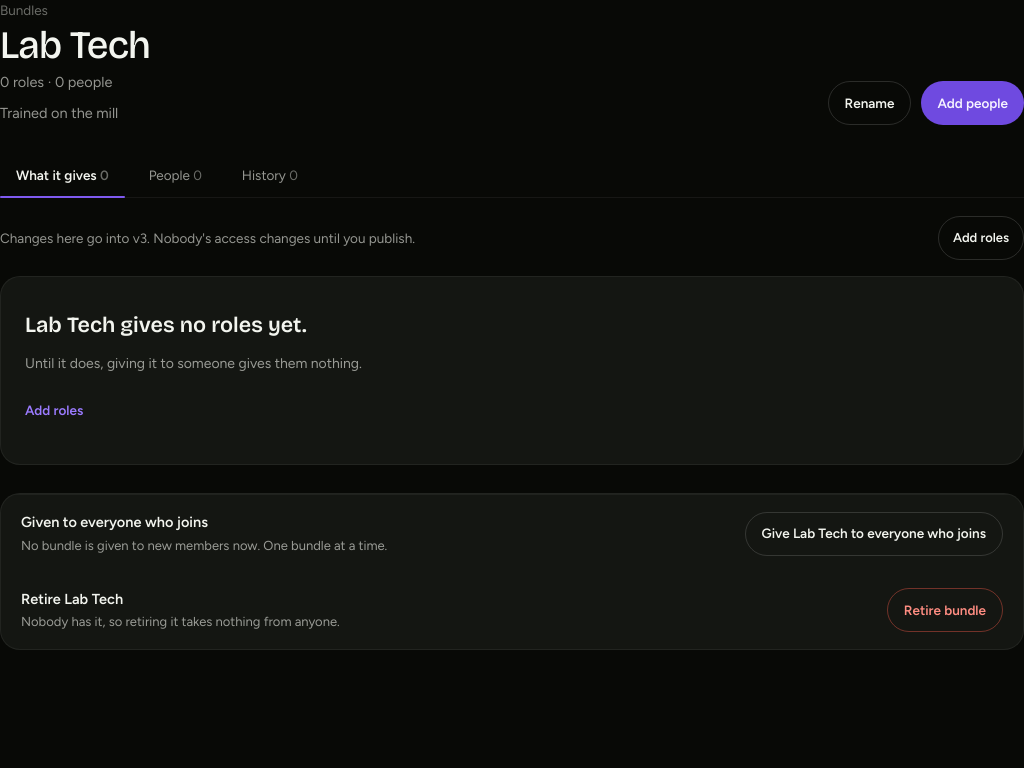
retiring a bundle › says nothing is taken away when nobody holds it
Click the button "Retire bundle" at (945, 610), box [887,588,1003,632]
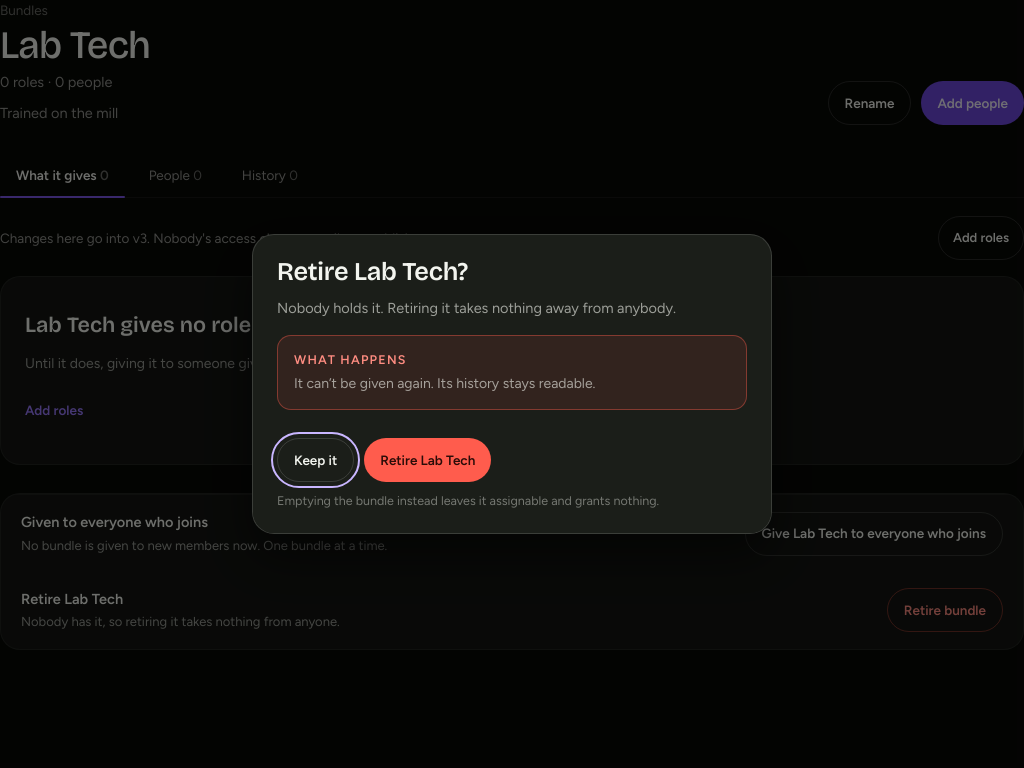
Expected: the text "takes nothing away from anybody" is shown, [277,299,676,317]
